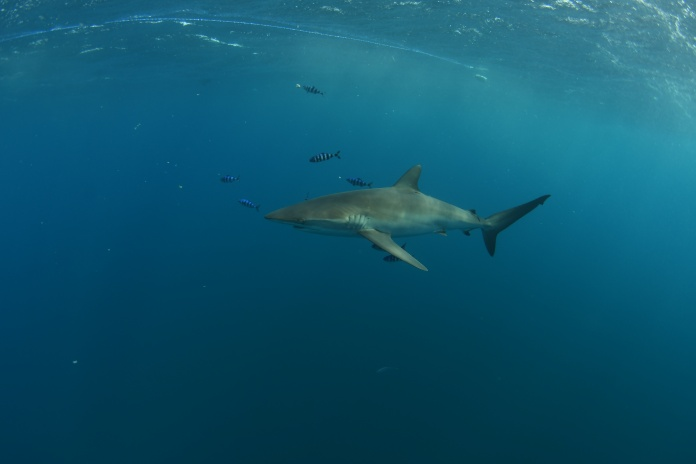Sedoso: (245, 158, 561, 284)
